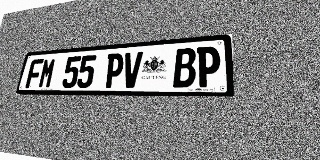5: (76, 55, 97, 88), (61, 56, 81, 88)
B: (173, 48, 196, 87)
F: (25, 59, 44, 88)
M: (37, 58, 57, 88)
P: (196, 46, 220, 87), (103, 53, 125, 88)
V: (121, 51, 143, 88)
